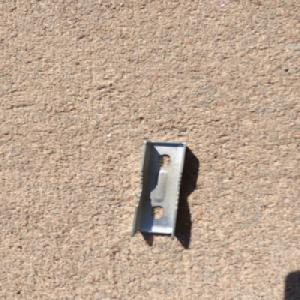ClampPart: (128, 138, 189, 241)
